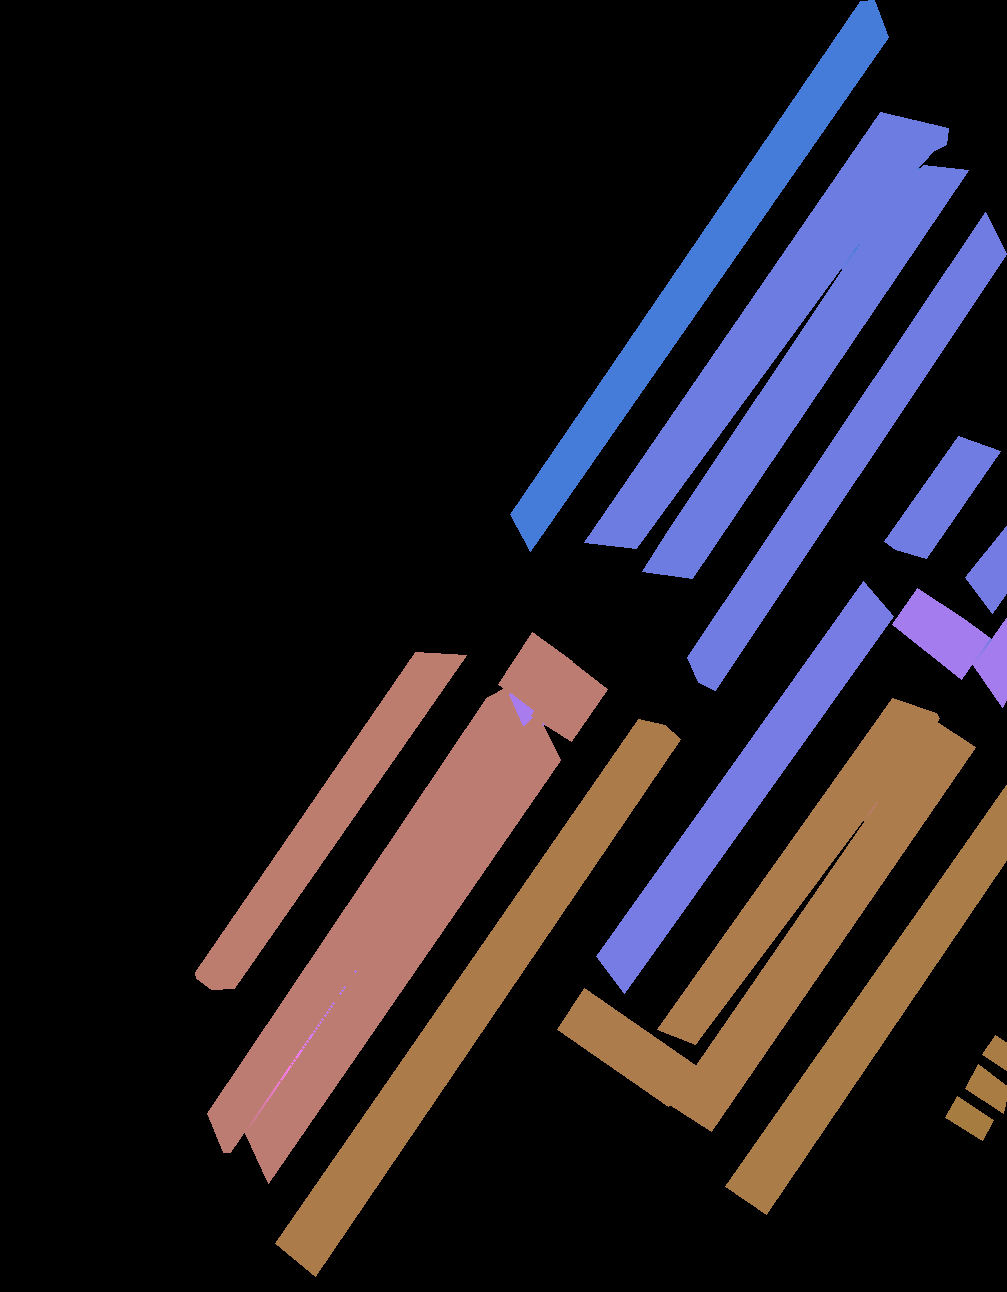parkingspot: (275, 719, 680, 1276), (510, 0, 888, 551), (584, 112, 948, 548), (687, 212, 1006, 690), (245, 712, 560, 1183), (207, 687, 523, 1153), (642, 165, 968, 578), (669, 720, 974, 1130), (596, 581, 893, 993), (725, 784, 1007, 1214), (657, 698, 939, 1045), (195, 652, 466, 989), (557, 988, 695, 1106), (884, 436, 1000, 558), (892, 588, 990, 679), (530, 661, 607, 741), (498, 632, 572, 711), (965, 526, 1006, 613), (973, 617, 1007, 707), (945, 1096, 993, 1140), (965, 1064, 1007, 1113), (982, 1035, 1007, 1070)
